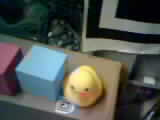duck: (56, 66, 99, 103)
